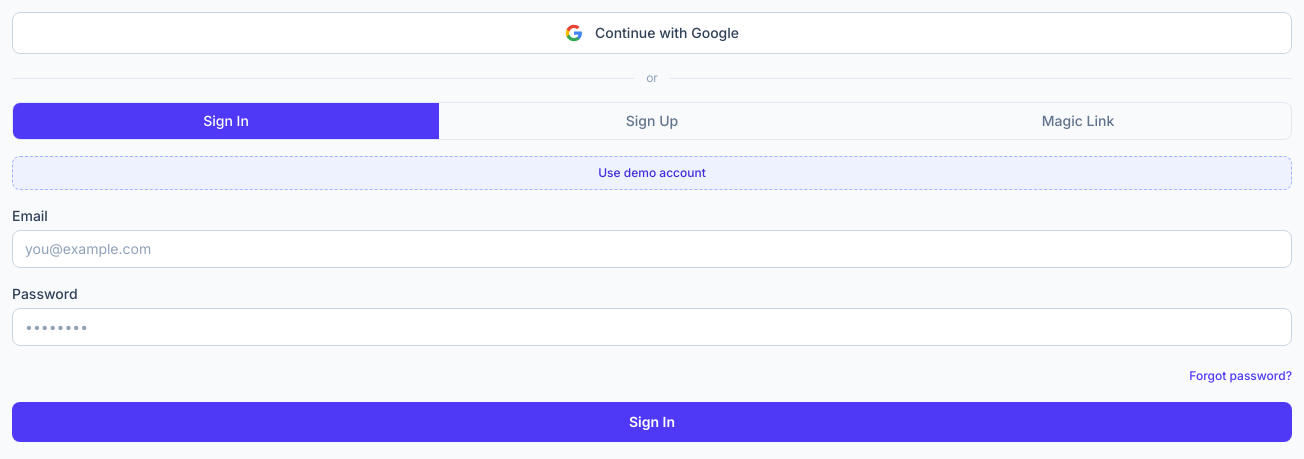
Test: AuthForm — rendering › hides password field in magic-link mode
Click the button "Magic Link" at {"x": 1078, "y": 121}, box [865,103,1291,139]
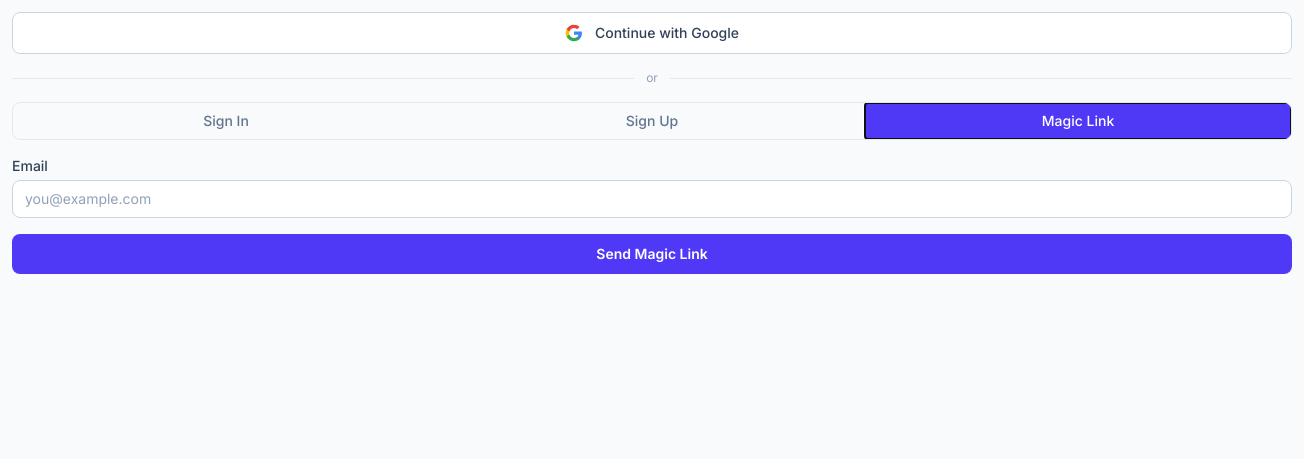
Result: the password field with placeholder "••••••••" is gone
